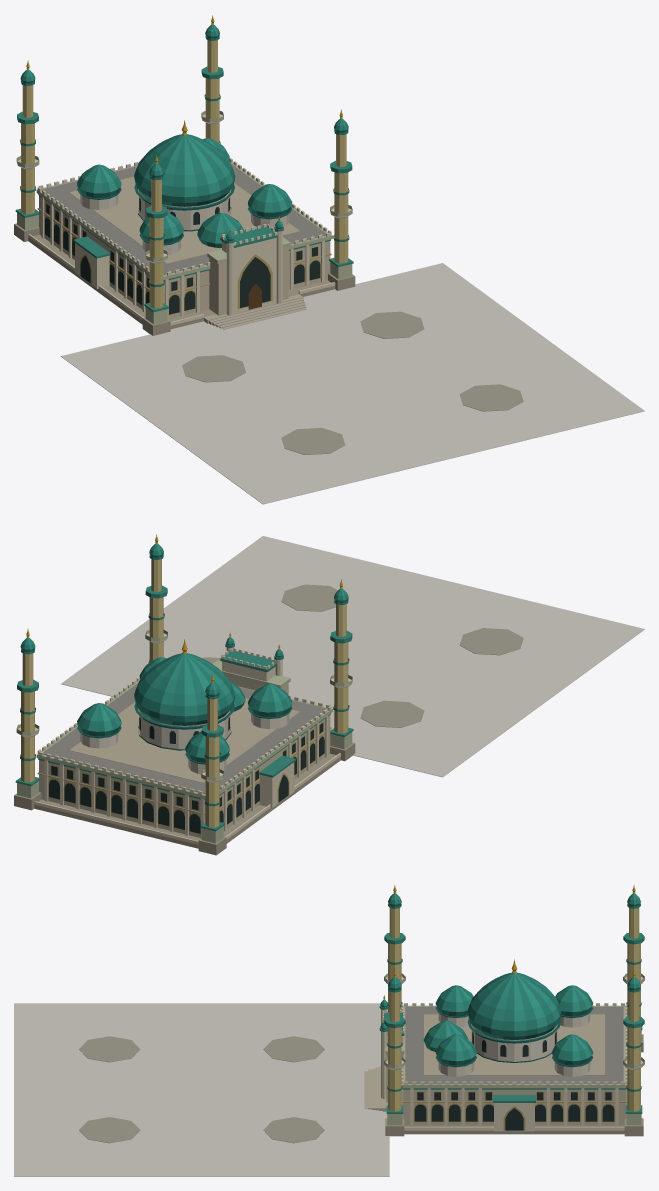
The model's file is an-nur-lod0.glb.
3 views of the same model, one above another, from view 1: azimuth 30°, elevation 25°; view 2: azimuth 150°, elevation 25°; view 3: azimuth 270°, elevation 25° (orthographic). The views are drawn at different scales.
Visible parts, largest first — view 1: AnNur_LOD0; view 2: AnNur_LOD0; view 3: AnNur_LOD0.
Part boxes in pixels (<box>): AnNur_LOD0: <box>14,15,644,504</box>; AnNur_LOD0: <box>14,534,644,855</box>; AnNur_LOD0: <box>14,885,644,1176</box>.
Size of the model in its own units: 120 by 53.08 by 185.
